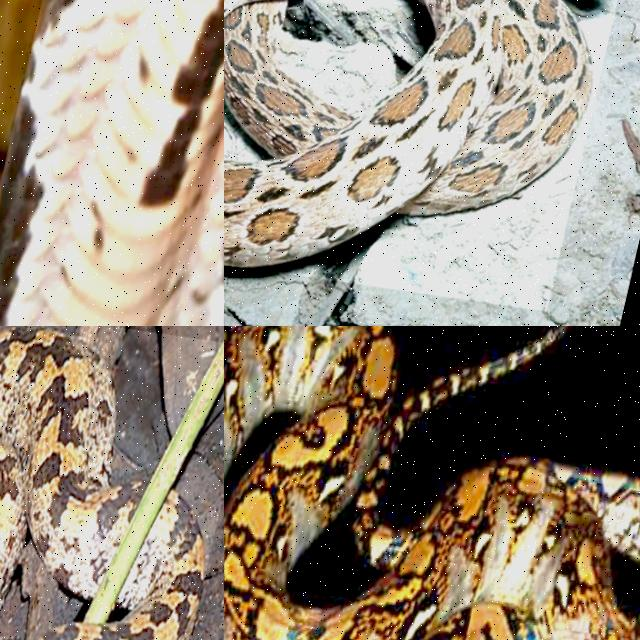Daboia siamensis: (224, 0, 591, 266)
Malayopython reticulatus: (224, 326, 639, 639)
Naja siamensis: (0, 0, 223, 325)
Ovophis monticola: (0, 329, 141, 608)
